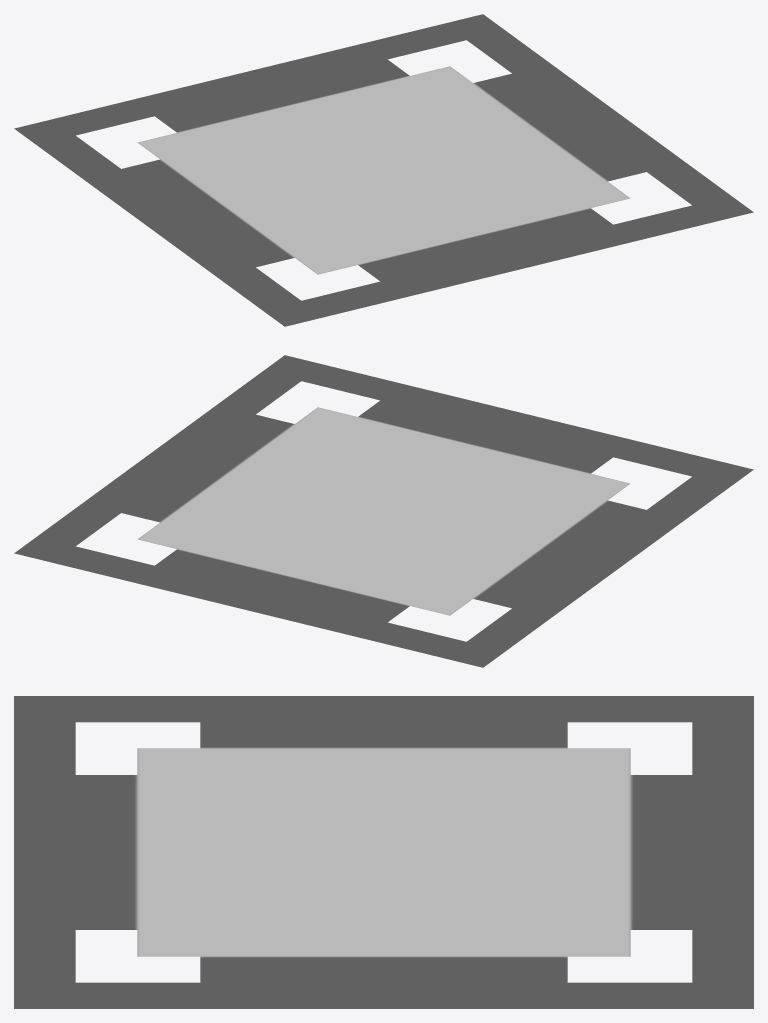
The model's file is Ground_02.fbx.
The picture shows the model from 3 angles, top to bottom: view 1: azimuth 30°, elevation 25°; view 2: azimuth 150°, elevation 25°; view 3: azimuth 270°, elevation 25°; orthographic projection. The views are drawn at different scales.
Parts seen in each view (by area): view 1: 12 feets Ground_Geo; view 2: 12 feets Ground_Geo; view 3: 12 feets Ground_Geo.
Boxes of the visible parts, <box> form: 12 feets Ground_Geo: <box>14,14,753,326</box>; 12 feets Ground_Geo: <box>14,355,753,667</box>; 12 feets Ground_Geo: <box>14,696,753,1008</box>.
Size of the model in its own units: 366 by 0.00012 by 366.
